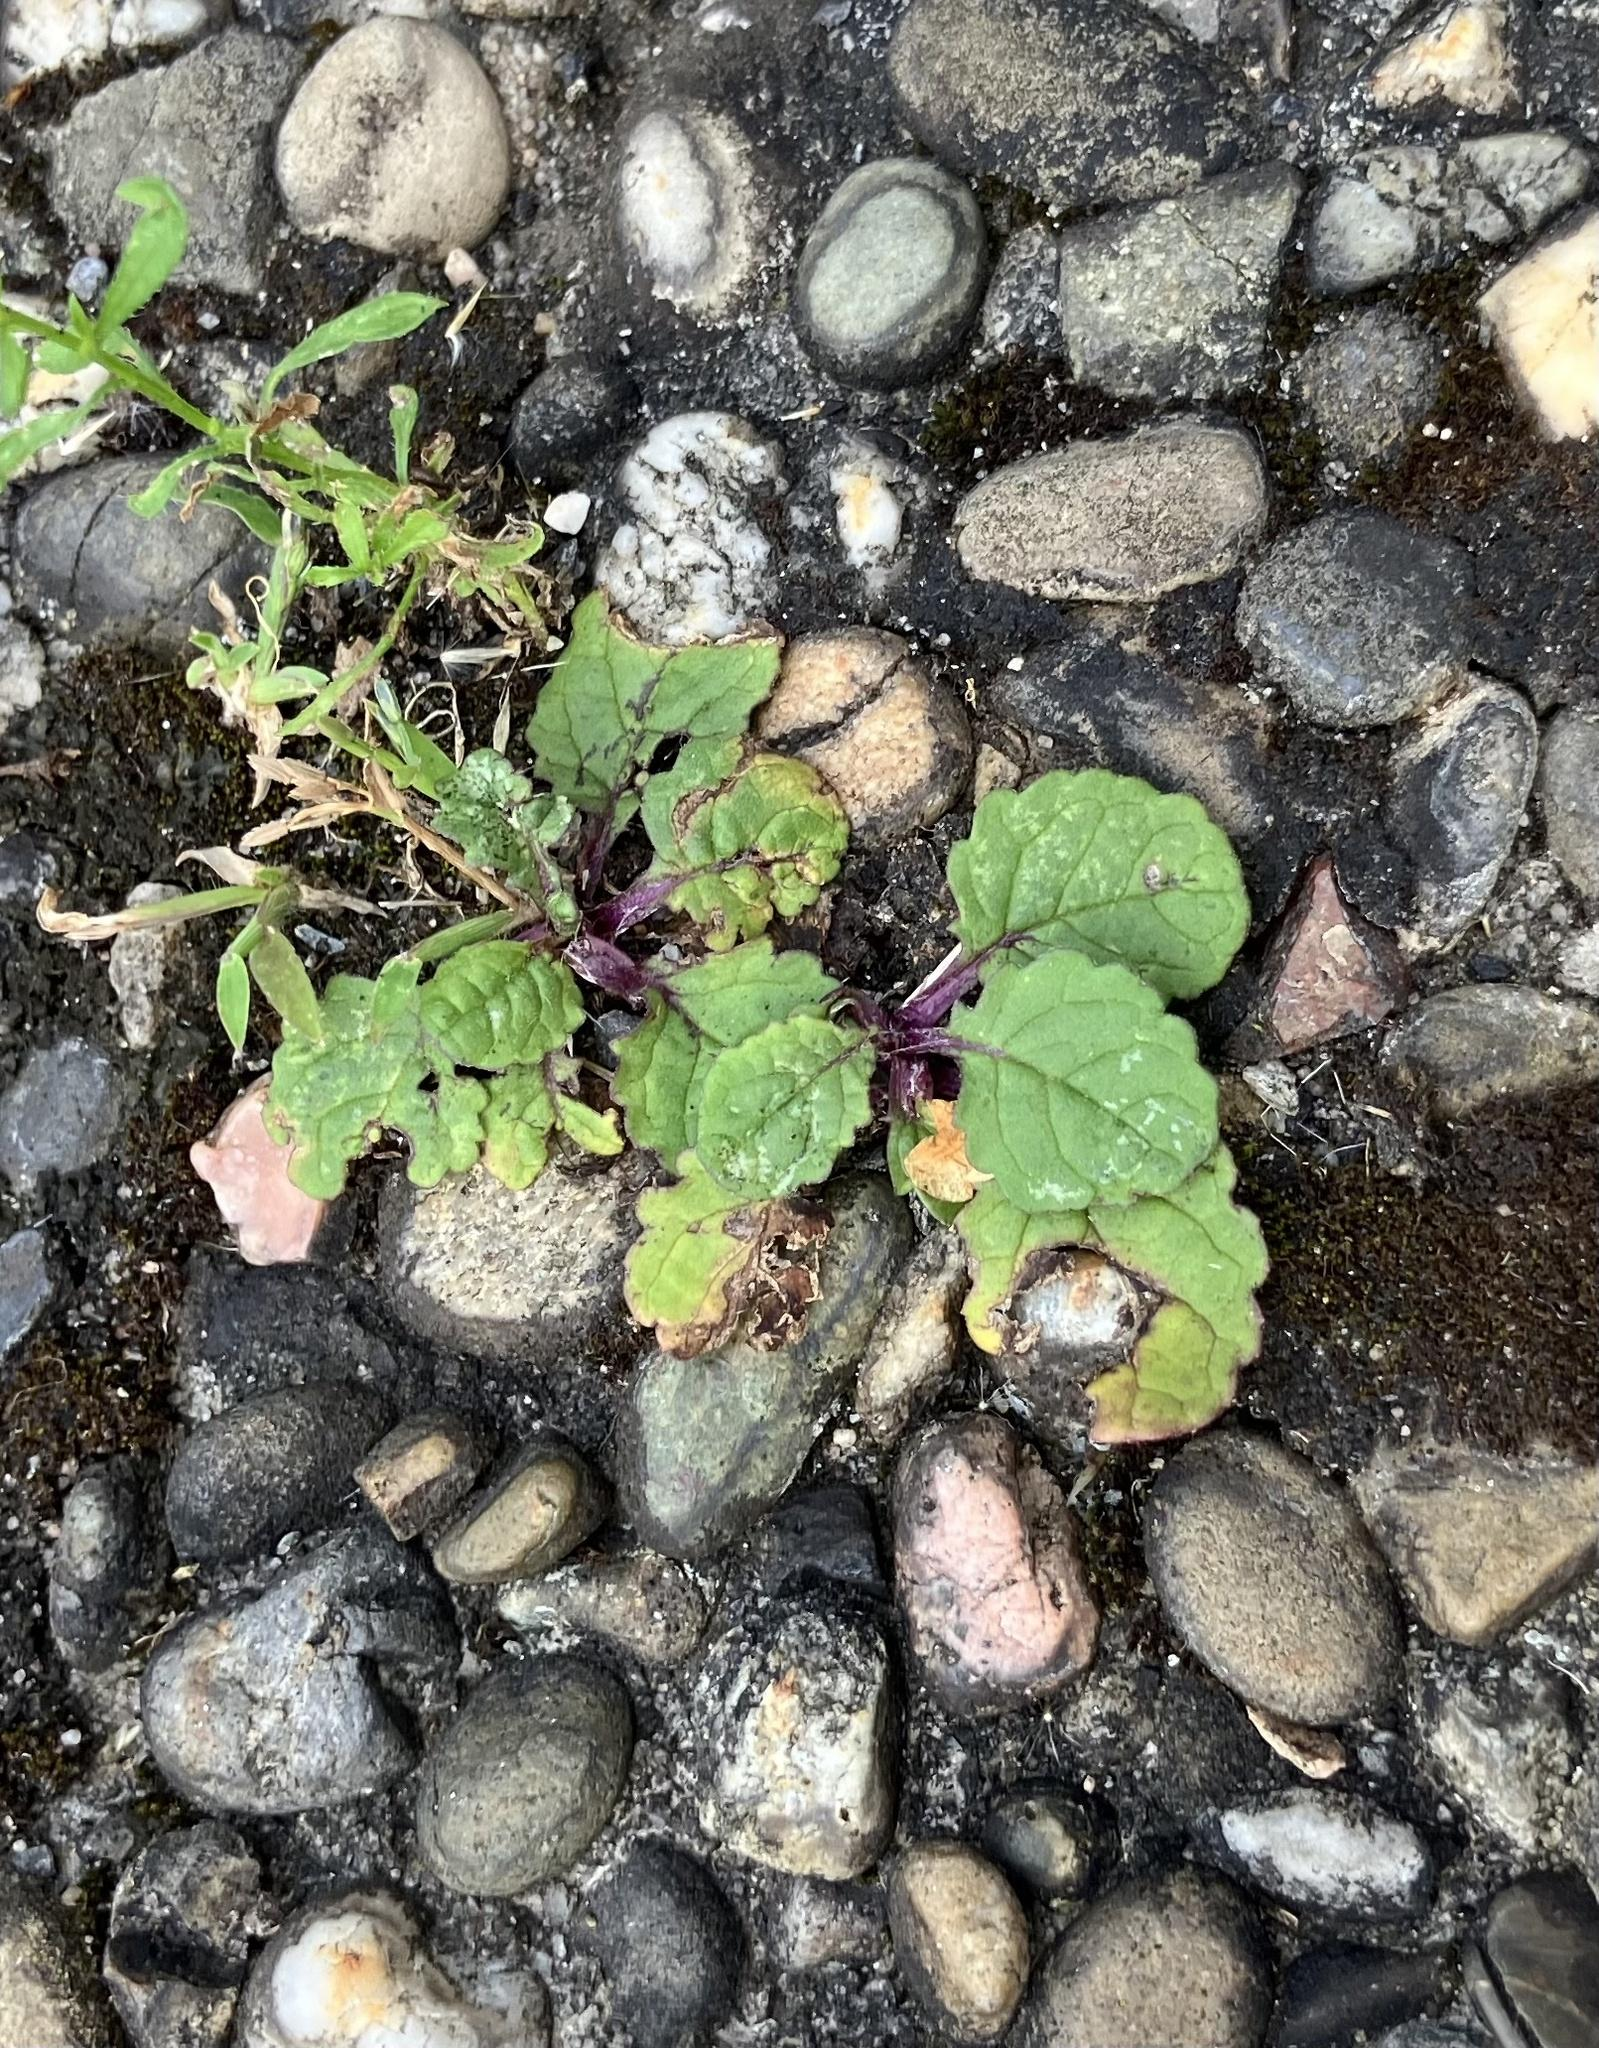Jacobaea vulgaris: (7, 140, 1383, 1506)
